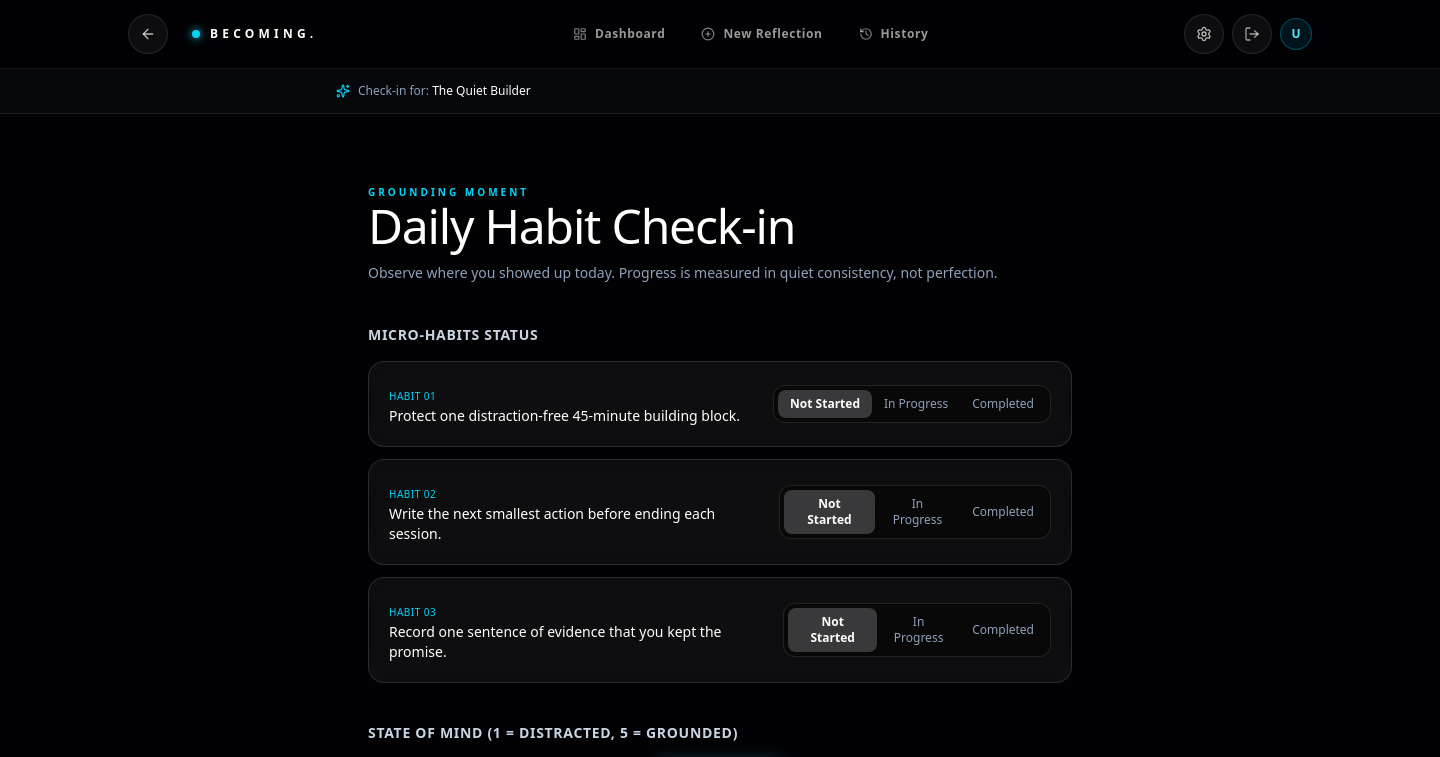
HabitCheckIn Feature › renders check-in habits and submits progress
Check: the heading "Daily Habit Check-in" is shown, box [368,193,795,258]
Check: the text "Protect one distraction-free 45-minute building block." is shown, box [389,406,740,426]
Step 1. Click the 1st button "Completed" → (1003, 404), box [960,390,1046,418]
(page scrolled)
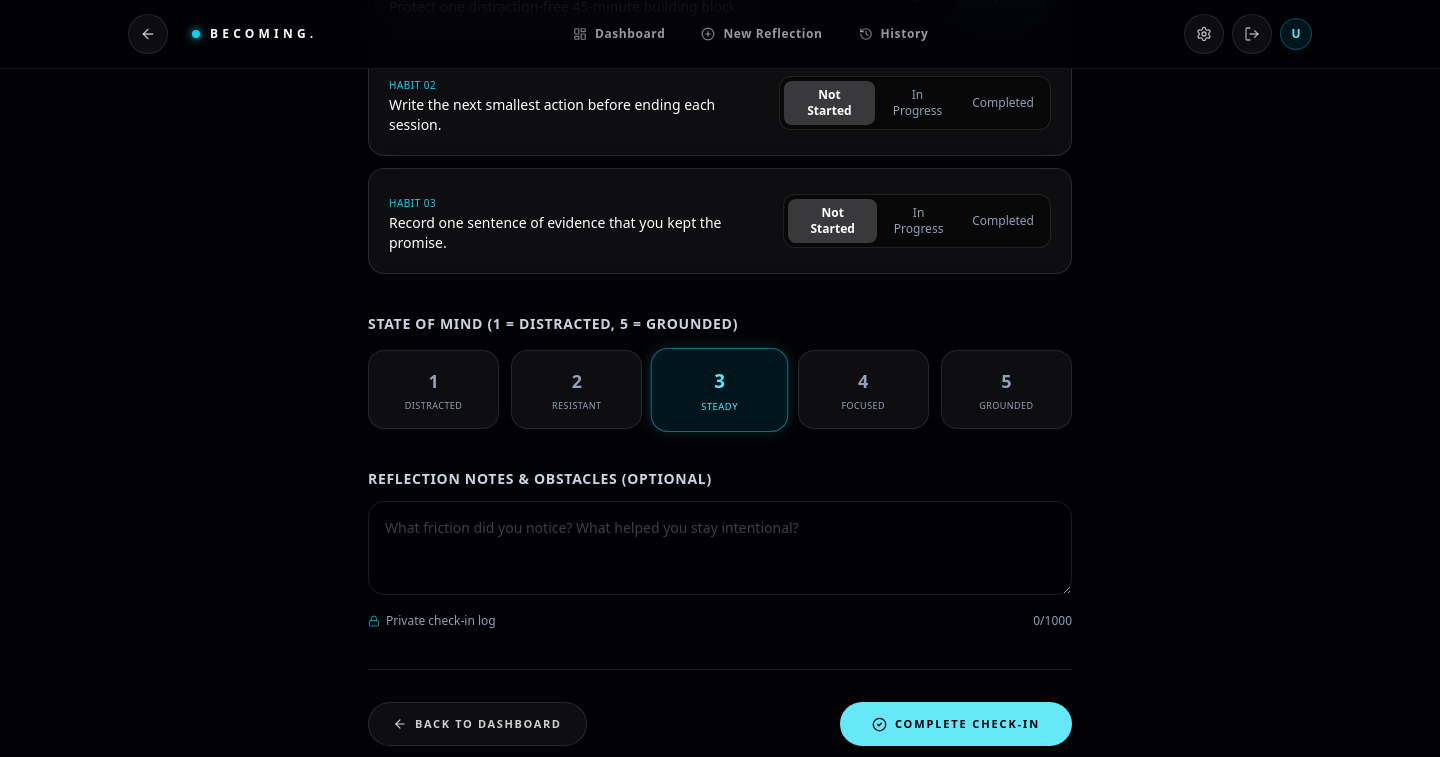
Step 2. Click the button "Complete Check-in" → (956, 724), box [840,702,1072,746]
(page scrolled)
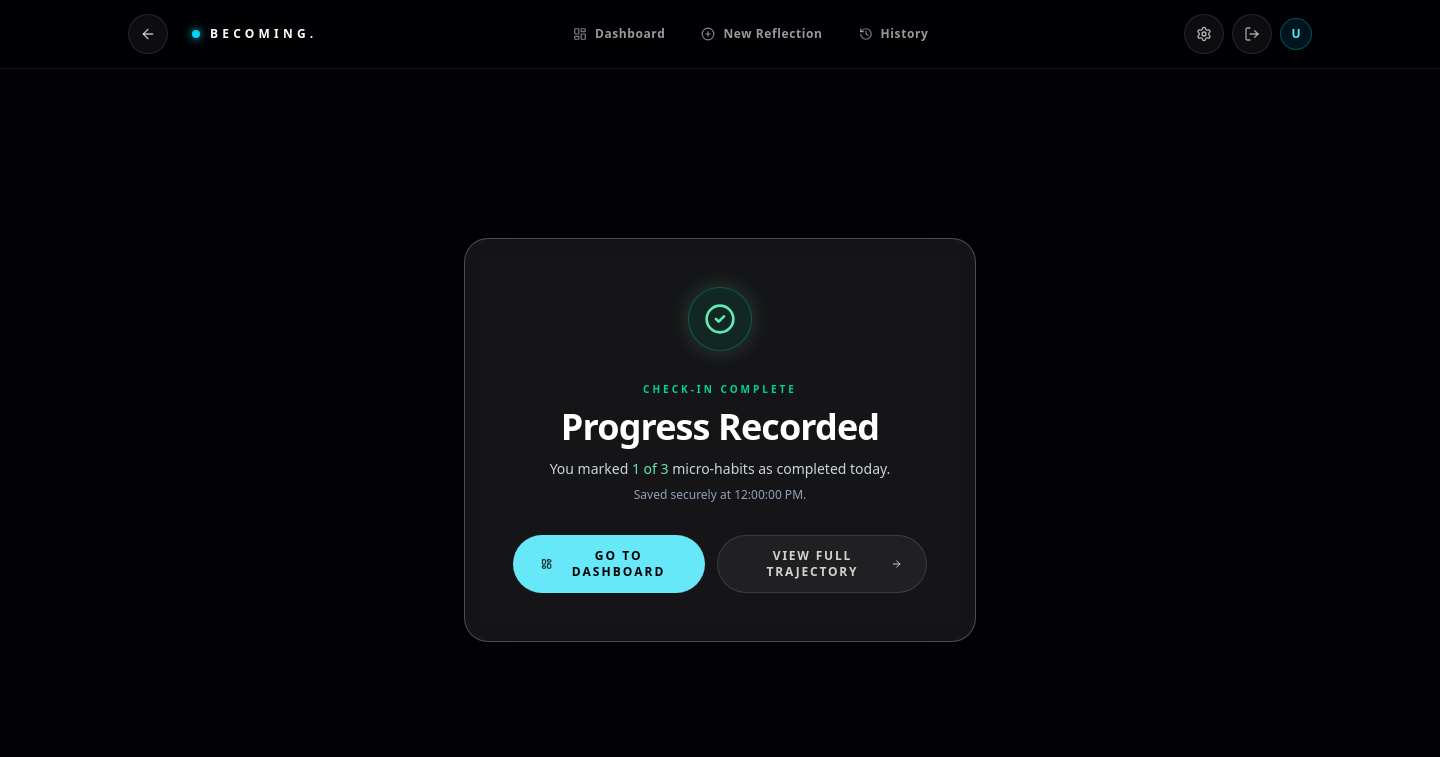
Check: the heading "Progress Recorded" is shown, box [561,402,879,450]
